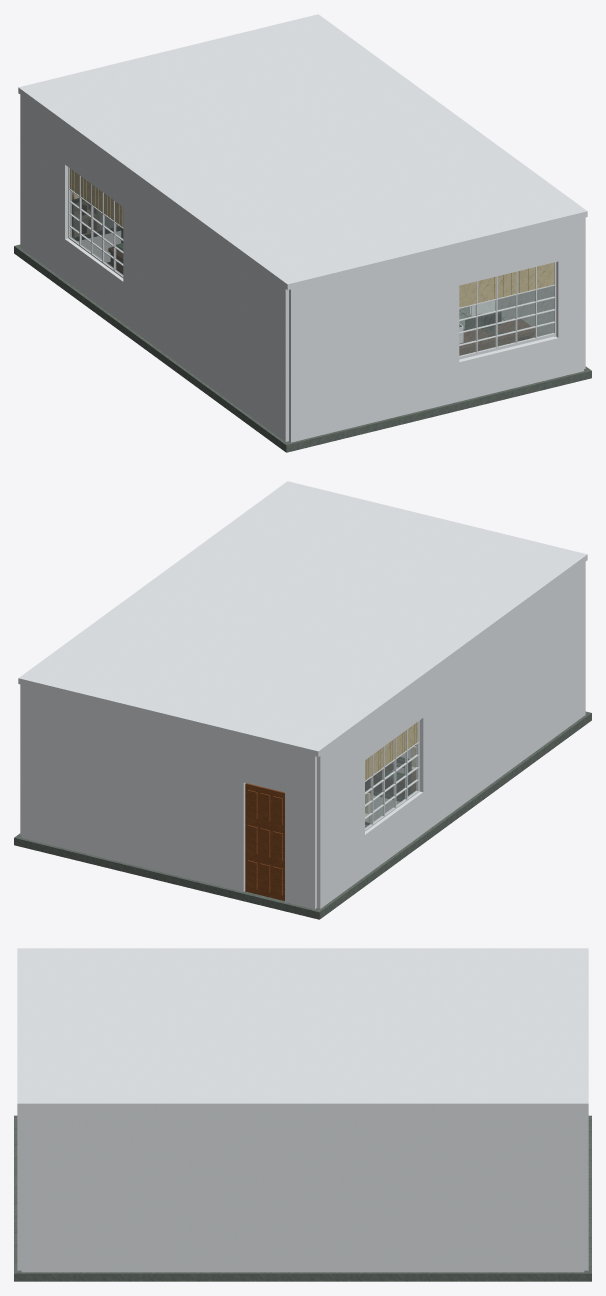
Rendered from Ruangan Dekan.glb.
3 renders of one model, top to bottom at view 1: azimuth 30°, elevation 25°; view 2: azimuth 150°, elevation 25°; view 3: azimuth 270°, elevation 25°, orthographic. The views are drawn at different scales.
Visible parts, largest first — view 1: 08_Plafon_Balok, 03_Dinding_Belakang, 04_Dinding_Kiri, 06_Jendela_Tirai, 01_Lantai, 05_Dinding_Kanan, Meja_Kerja_Belakang, Sekat_Kantor_1; view 2: 08_Plafon_Balok, 02_Dinding_Depan, 04_Dinding_Kiri, 01_Lantai, 07_Pintu_Masuk, 06_Jendela_Tirai, Sekat_Kantor_1; view 3: 08_Plafon_Balok, 05_Dinding_Kanan, 01_Lantai, 02_Dinding_Depan, 03_Dinding_Belakang.
Part boxes in pixels (x1,y1,x2,y2): 08_Plafon_Balok: (18, 14, 587, 290); 03_Dinding_Belakang: (289, 218, 583, 442); 04_Dinding_Kiri: (20, 95, 288, 441); 06_Jendela_Tirai: (68, 167, 556, 359); 01_Lantai: (14, 226, 591, 452); 05_Dinding_Kanan: (497, 217, 585, 368); Meja_Kerja_Belakang: (459, 311, 534, 355); Sekat_Kantor_1: (72, 198, 121, 264); 08_Plafon_Balok: (18, 481, 587, 757); 02_Dinding_Depan: (22, 685, 316, 909); 04_Dinding_Kiri: (317, 562, 585, 908); 01_Lantai: (14, 711, 591, 919); 07_Pintu_Masuk: (245, 783, 284, 900); 06_Jendela_Tirai: (365, 720, 419, 831); Sekat_Kantor_1: (365, 758, 409, 825); 08_Plafon_Balok: (17, 948, 588, 1109); 05_Dinding_Kanan: (21, 1109, 584, 1272); 01_Lantai: (14, 1115, 591, 1281); 02_Dinding_Depan: (584, 1109, 588, 1270); 03_Dinding_Belakang: (17, 1109, 21, 1270).
Size of the model in its own units: 7.72 by 4.02 by 11.92.
20 materials, 20 textured.
